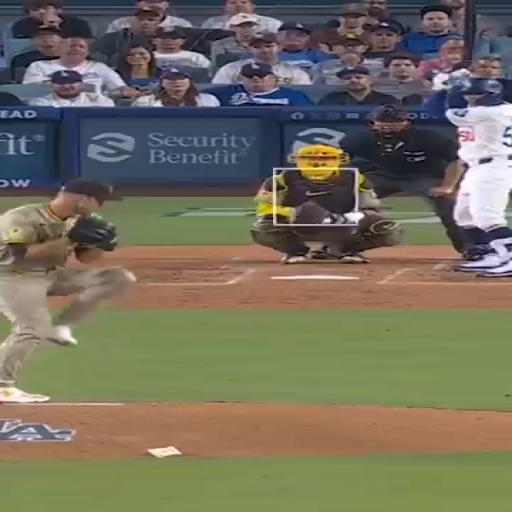bat: (455, 50, 511, 86)
